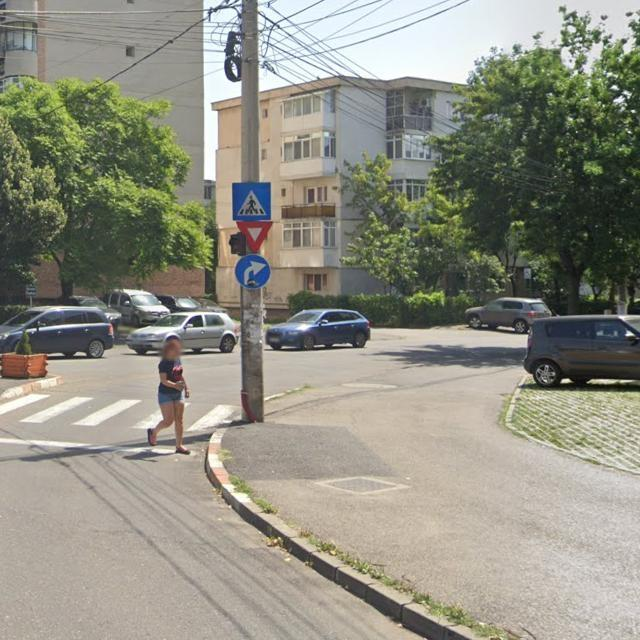info_crosswalk: (233, 182, 273, 221)
prio_give_way: (237, 221, 273, 254)
